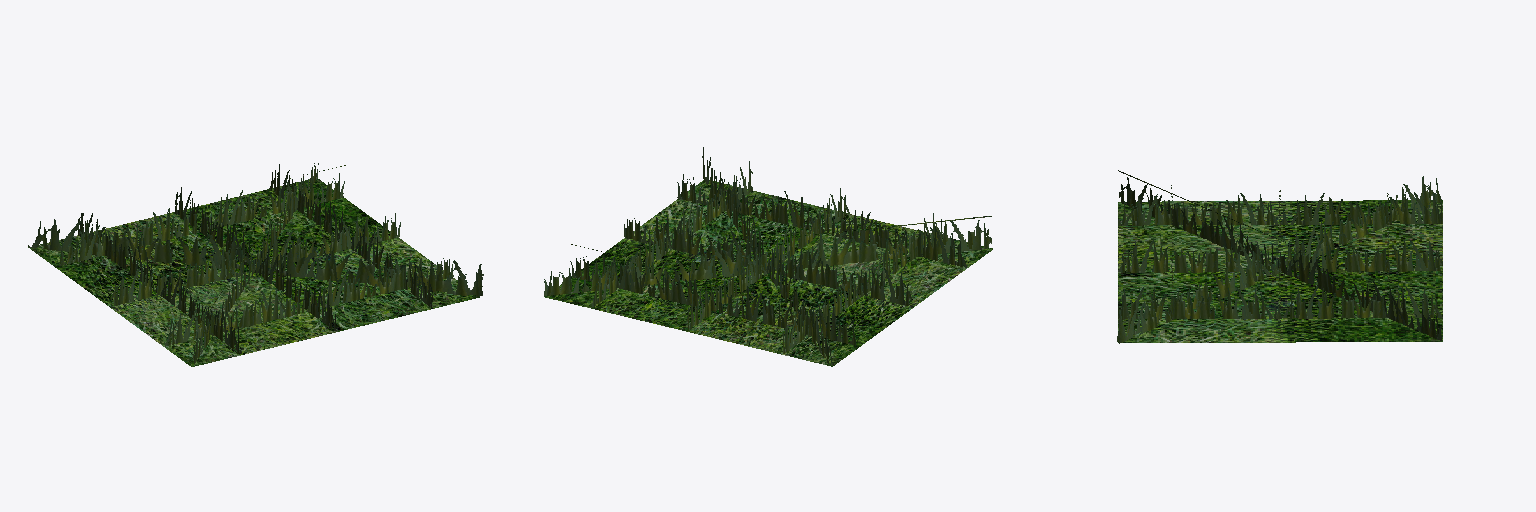
3 renders of one model, left to right at view 1: azimuth 30°, elevation 25°; view 2: azimuth 150°, elevation 25°; view 3: azimuth 270°, elevation 25°, orthographic.
Size of the model in its own units: 2.13 by 0.2391 by 2.06.
1 materials, 1 textured.